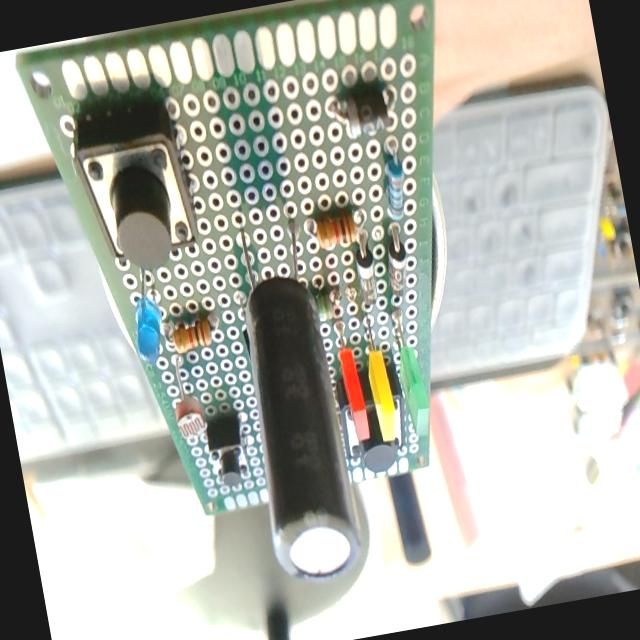Electrolytic capacitor: (220, 216, 368, 580)
cds: (165, 355, 207, 438)
diode: (330, 85, 396, 141), (380, 228, 414, 298), (351, 238, 381, 308)
led: (387, 306, 434, 437), (354, 301, 398, 438), (329, 306, 372, 442), (124, 272, 169, 366)
resistor: (378, 156, 411, 222), (311, 209, 359, 250), (170, 314, 217, 354)
switch: (70, 100, 204, 276), (332, 358, 415, 478), (205, 414, 252, 490)
